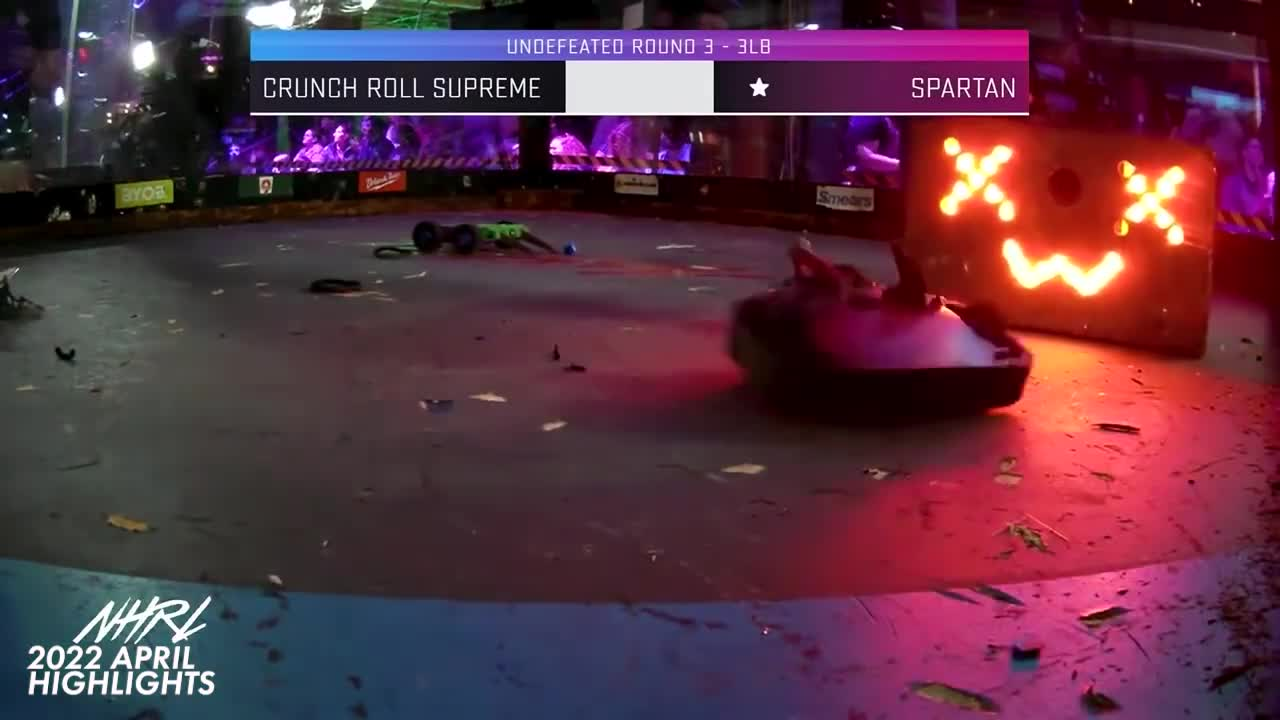belt: (308, 275, 363, 297)
combatbot: (728, 228, 1032, 425), (411, 221, 560, 258), (0, 270, 44, 323)
debris: (376, 246, 412, 262), (54, 343, 78, 362)
housebot: (899, 113, 1211, 361)
